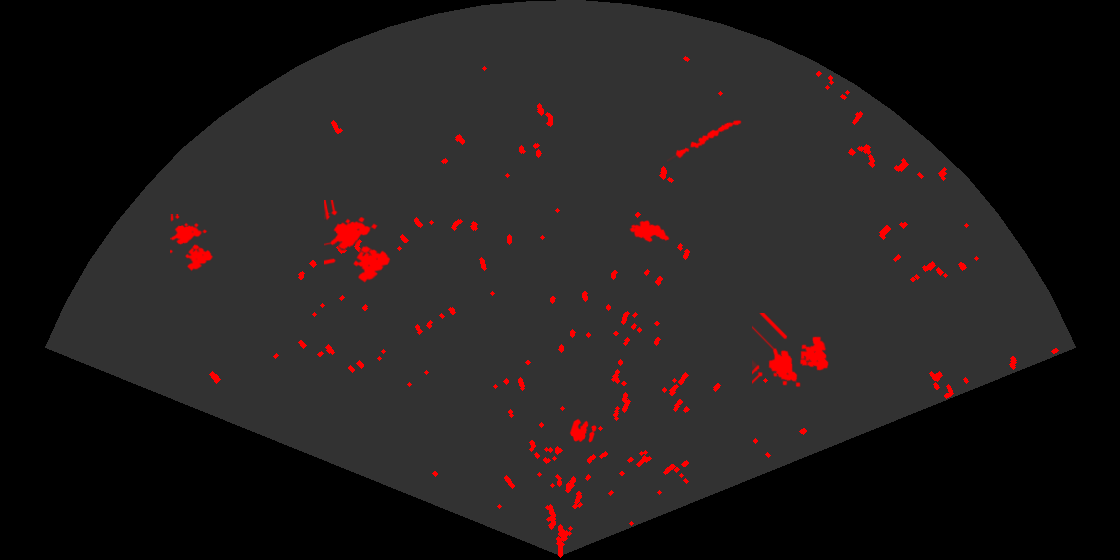AUV: (628, 218, 671, 244)
ball: (568, 417, 598, 444)
cage: (752, 313, 830, 389), (324, 200, 392, 284), (170, 214, 215, 273)
chain: (667, 118, 743, 163)
